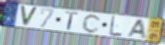7: (40, 7, 56, 29)
A: (124, 19, 147, 39)
C: (82, 14, 103, 34)
L: (109, 15, 124, 37)
T: (65, 11, 80, 32)
V: (19, 4, 39, 27)
